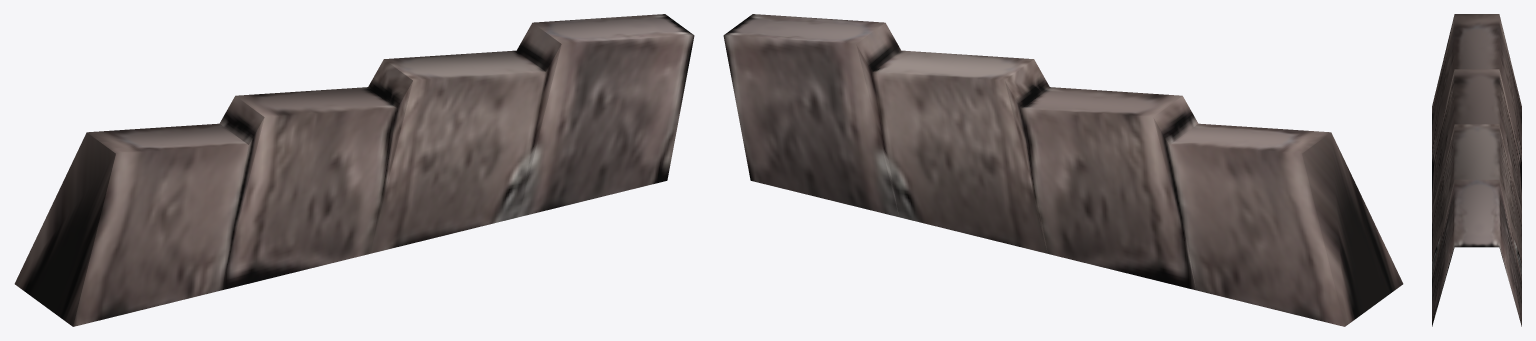
Rendered from RoofEdge05A.fbx.
3 views of the same model, side by side, from view 1: azimuth 30°, elevation 25°; view 2: azimuth 150°, elevation 25°; view 3: azimuth 270°, elevation 25° (orthographic). The views are drawn at different scales.
Parts seen in each view (by area): view 1: RoofEdge05A; view 2: RoofEdge05A; view 3: RoofEdge05A.
Boxes of the visible parts, x1=… form: RoofEdge05A: x1=14, y1=14, x2=694, y2=326; RoofEdge05A: x1=723, y1=14, x2=1403, y2=326; RoofEdge05A: x1=1432, y1=14, x2=1521, y2=326.
Bounding box in the file's own units: 107 × 24.05 × 17.1.
